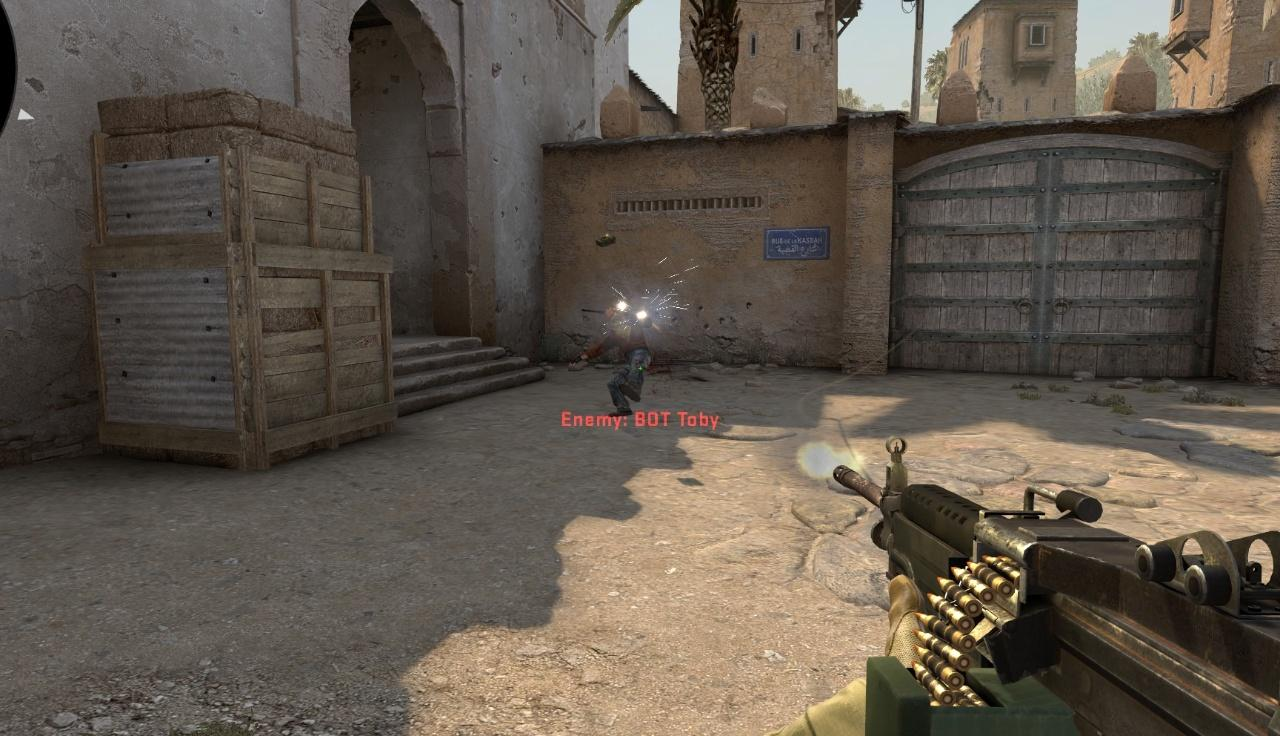rifle: (797, 435, 1280, 736)
